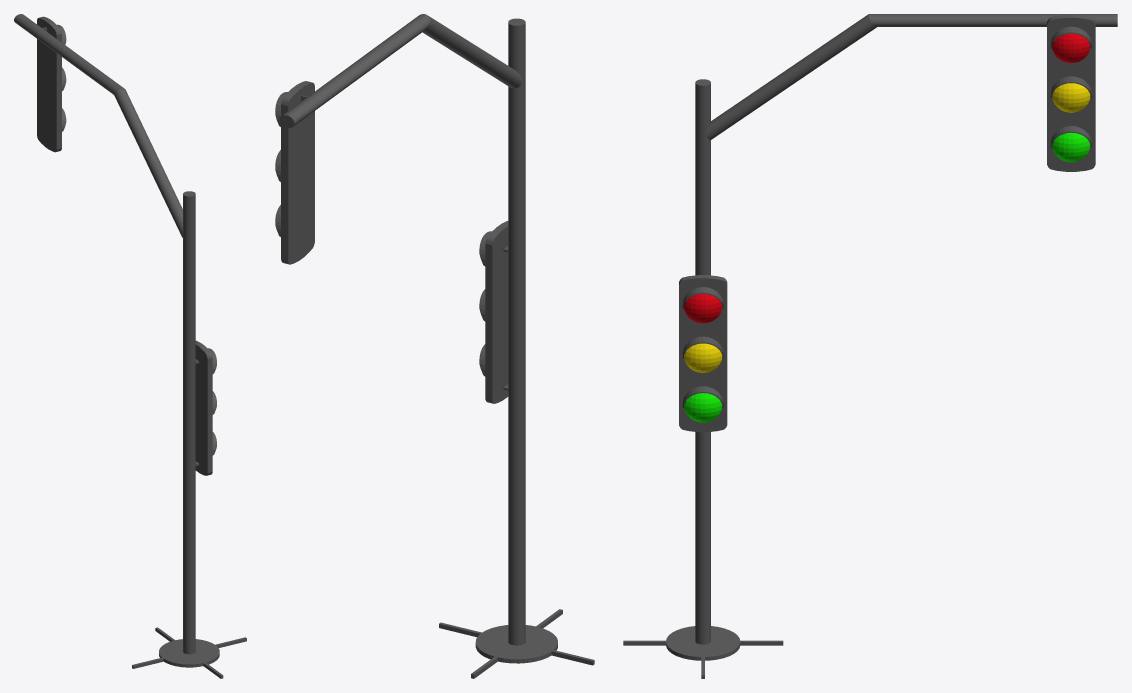
The model's file is Trafik_Lambalari_1.fbx.
3 renders of one model, left to right at view 1: azimuth 30°, elevation 25°; view 2: azimuth 150°, elevation 25°; view 3: azimuth 270°, elevation 25°, orthographic. The views are drawn at different scales.
Parts seen in each view (by area): view 1: Trafik_Lambasi_02, Trafik_Lambasi_01; view 2: Trafik_Lambasi_02, Trafik_Lambasi_01; view 3: Trafik_Lambasi_02, Trafik_Lambasi_01.
Part boxes in pixels (bbox=[...]): Trafik_Lambasi_02: bbox=[14, 14, 246, 678]; Trafik_Lambasi_01: bbox=[132, 340, 246, 675]; Trafik_Lambasi_02: bbox=[275, 14, 555, 662]; Trafik_Lambasi_01: bbox=[439, 221, 594, 678]; Trafik_Lambasi_02: bbox=[623, 14, 1117, 660]; Trafik_Lambasi_01: bbox=[623, 271, 783, 678].
Bounding box in the file's own units: 155 × 677 × 478.
